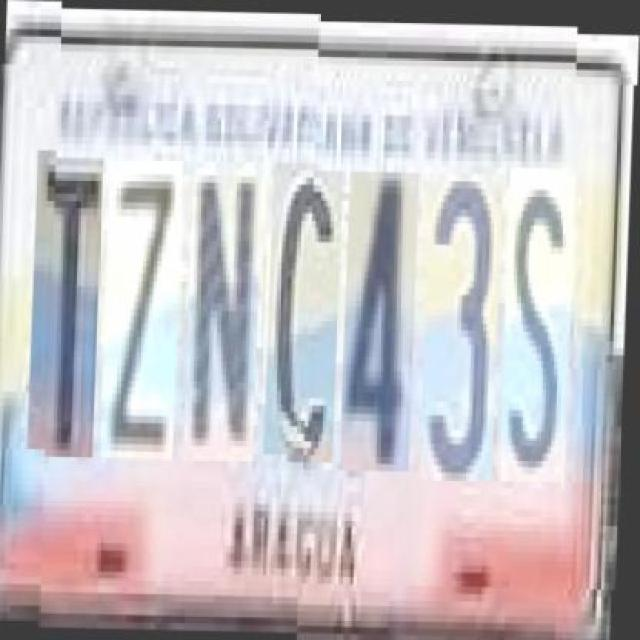3: (423, 164, 505, 471)
4: (343, 163, 422, 463)
c: (267, 160, 344, 454)
n: (187, 160, 264, 460)
s: (502, 158, 578, 472)
t: (30, 158, 104, 458)
z: (103, 158, 185, 458)
